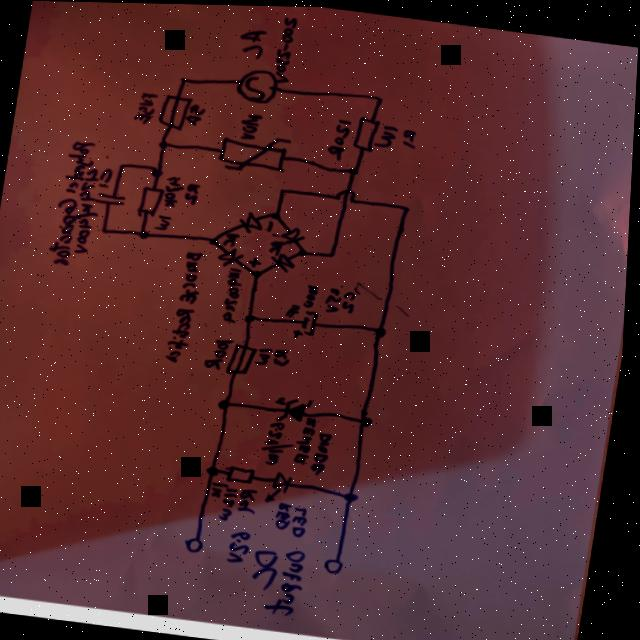capacitor: (293, 306, 321, 337), (94, 190, 129, 204)
crossover: (333, 184, 362, 203)
diode: (267, 466, 299, 503), (277, 394, 318, 422), (238, 207, 267, 233), (217, 243, 248, 267), (270, 248, 300, 271), (280, 223, 309, 245)
junction: (345, 488, 362, 501), (208, 461, 224, 474), (220, 396, 237, 408), (361, 411, 378, 423), (157, 137, 170, 147), (100, 223, 113, 233), (138, 228, 152, 237), (209, 234, 223, 243), (251, 267, 265, 276), (245, 311, 259, 320), (115, 159, 129, 168), (151, 166, 164, 175), (349, 164, 362, 173), (271, 209, 284, 218), (298, 245, 311, 254), (376, 324, 389, 333), (178, 73, 190, 80), (327, 249, 339, 256), (402, 202, 414, 209), (280, 185, 291, 192), (374, 92, 385, 99)
resistor: (352, 112, 382, 151), (137, 183, 165, 216), (227, 463, 261, 482)
source: (233, 64, 281, 102)
terminal: (326, 551, 351, 573), (188, 532, 210, 553)
text: (48, 137, 95, 265), (165, 247, 208, 362), (270, 544, 315, 616), (294, 412, 340, 474), (74, 164, 102, 255), (272, 13, 300, 82), (263, 417, 303, 465), (222, 263, 249, 321), (254, 546, 286, 589), (327, 114, 353, 159), (236, 24, 268, 58), (133, 89, 163, 124), (205, 334, 235, 369), (230, 527, 258, 562), (159, 172, 186, 207), (293, 501, 317, 536), (238, 110, 264, 138), (324, 283, 348, 311), (242, 484, 264, 514), (277, 499, 297, 530), (224, 483, 241, 519), (373, 121, 398, 145), (185, 101, 208, 125), (306, 280, 325, 306), (401, 122, 420, 146), (273, 344, 294, 364), (258, 343, 277, 364), (213, 477, 232, 497), (185, 180, 203, 201), (98, 164, 115, 186), (155, 211, 175, 229), (267, 236, 289, 252), (345, 287, 360, 310), (222, 230, 242, 246), (287, 301, 304, 315), (266, 217, 277, 231), (249, 255, 263, 264)
